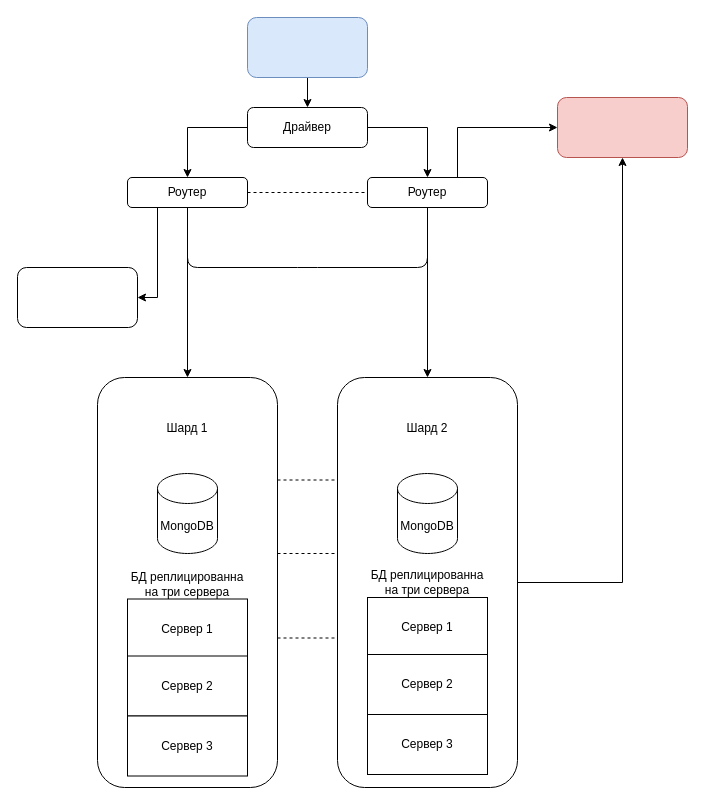
This 705x805 diagram has some shape labels left out. The centre of each missing label's shape, as x and y in pixels:
pymongo-api: point 307,47
Redis: point 77,297
Конфигурационный сервер: point 622,127
